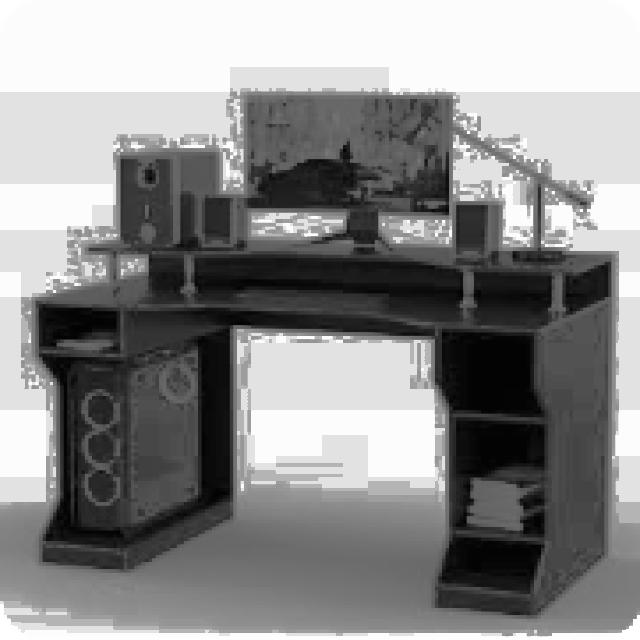table: (32, 237, 612, 615)
